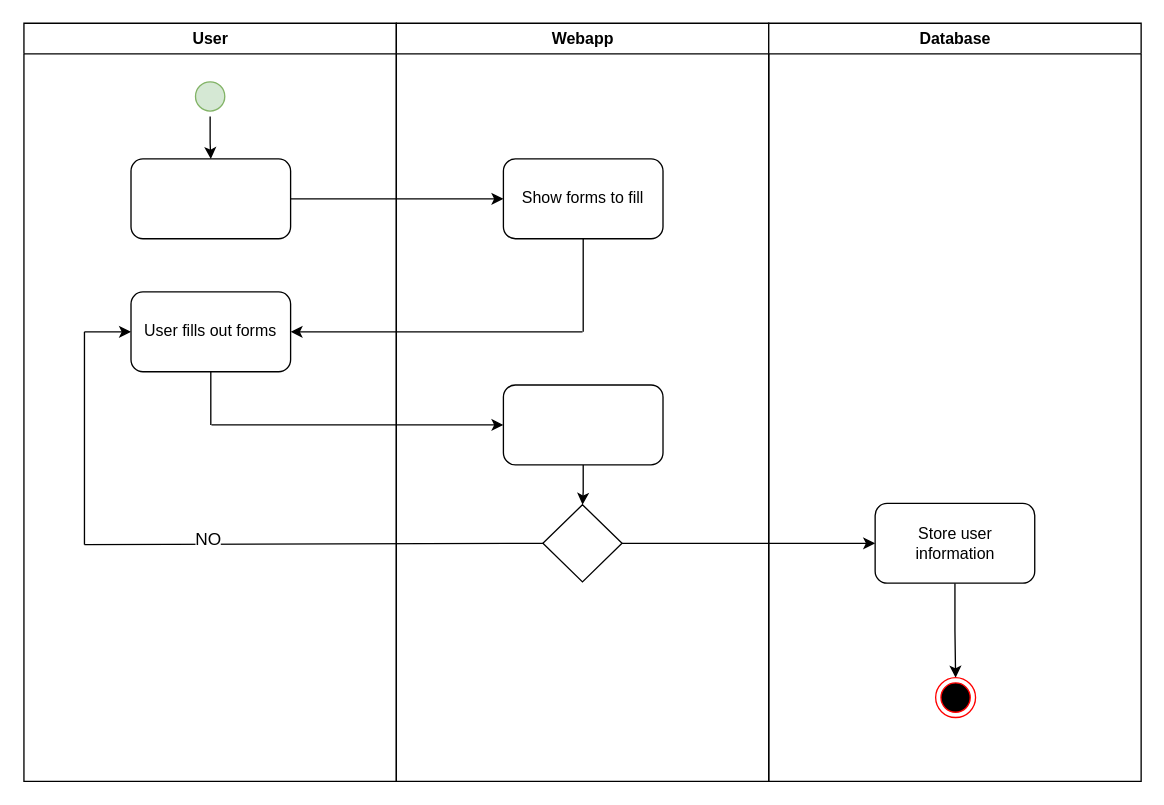
The diagram is 1164 pixels wide and 805 high, and some of its shapes have lost their labels. The centre of each missing label's shape, as x and y in pixels:
"Are they filled correctly?" belongs at pixel 582 542.
"User clicks on register account" belongs at pixel 210 198.
"Verify if forms are filled" belongs at pixel 582 424.
